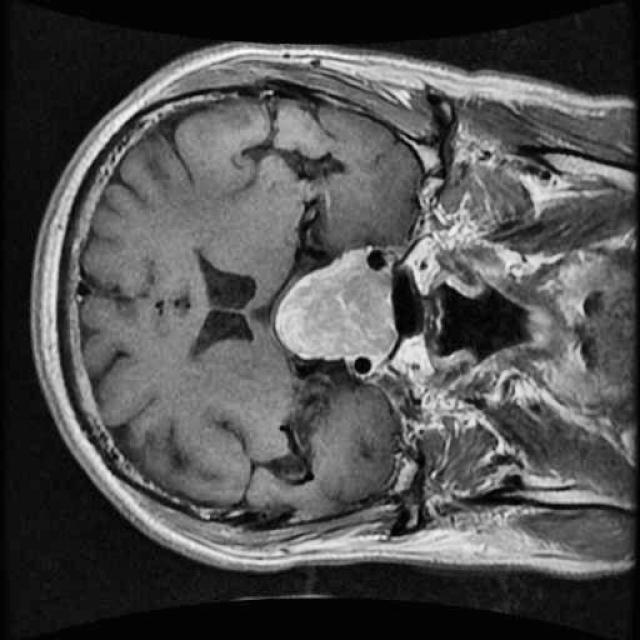Tumor: (269, 230, 409, 391)
